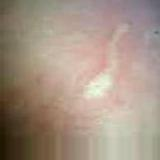Mosquito: (79, 20, 144, 108)
